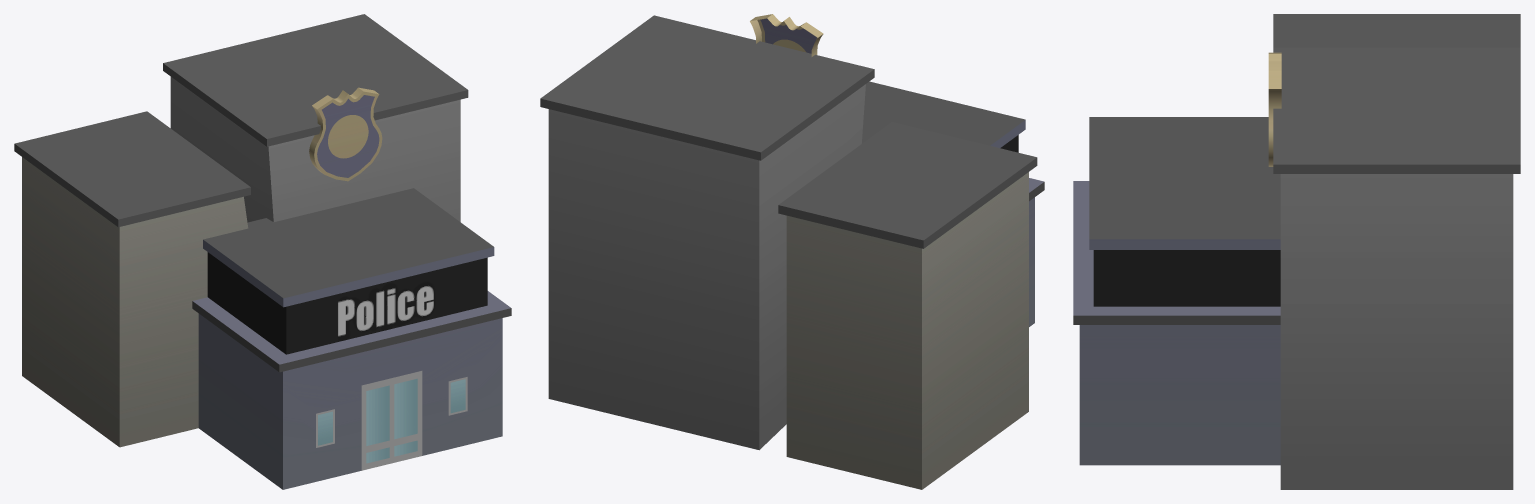
Rendered from Police.fbx.
3 renders of one model, left to right at view 1: azimuth 30°, elevation 25°; view 2: azimuth 150°, elevation 25°; view 3: azimuth 270°, elevation 25°, orthographic. The views are drawn at different scales.
Parts seen in each view (by area): view 1: Police Building; view 2: Police Building; view 3: Police Building.
Boxes of the visible parts, <box> form: Police Building: <box>14,14,511,489</box>; Police Building: <box>540,14,1044,489</box>; Police Building: <box>1073,14,1520,489</box>.
Size of the model in its own units: 939 by 776 by 872.
